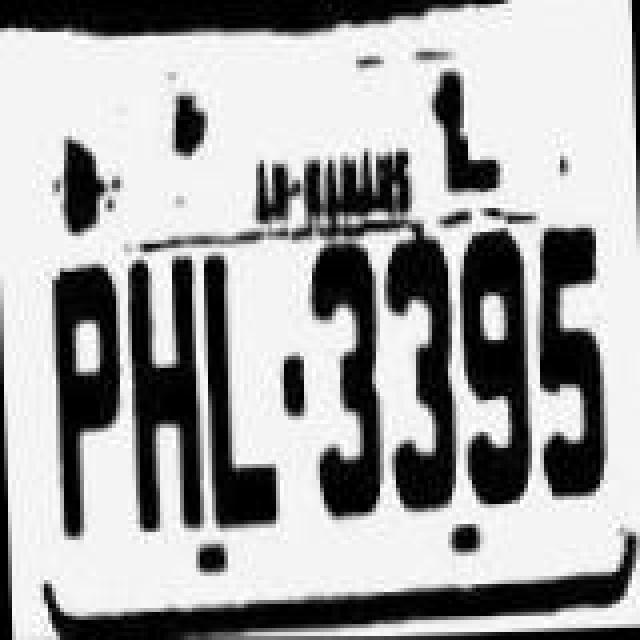3: (304, 238, 388, 534), (386, 238, 466, 518)
5: (532, 216, 616, 504)
9: (454, 228, 542, 508)
H: (118, 254, 206, 534)
L: (198, 246, 286, 522)
P: (34, 258, 130, 558)
